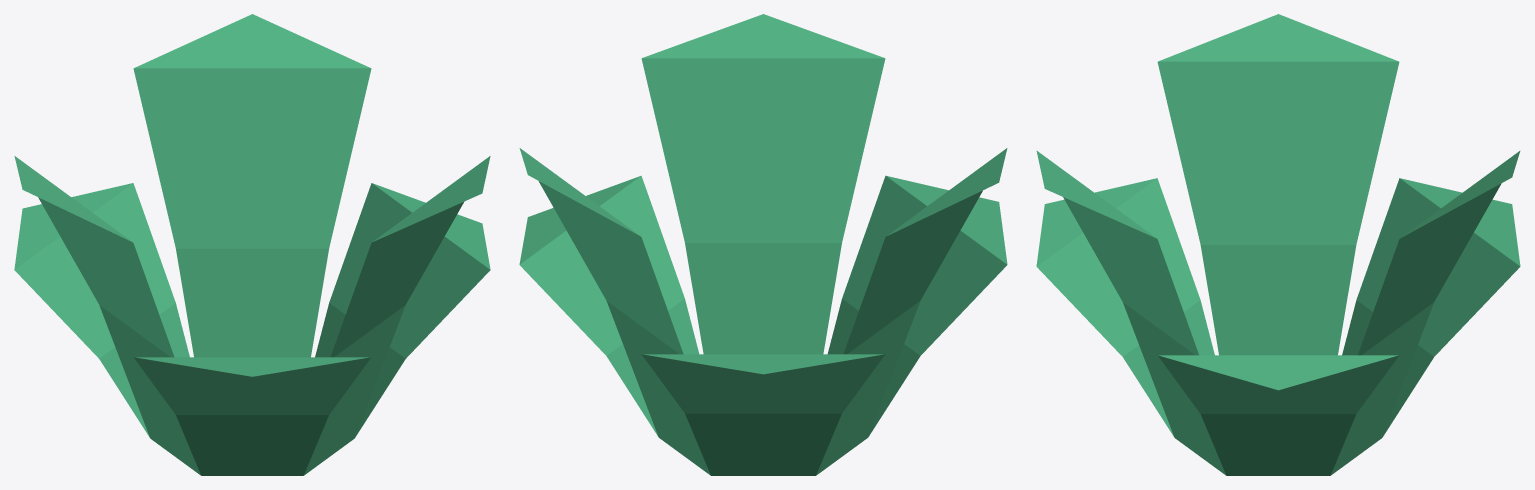
The model's file is bush_small.glb.
The picture shows the model from 3 angles, left to right: view 1: azimuth 30°, elevation 25°; view 2: azimuth 150°, elevation 25°; view 3: azimuth 270°, elevation 25°; orthographic projection. The views are drawn at different scales.
Parts seen in each view (by area): view 1: bush_small; view 2: bush_small; view 3: bush_small.
Part boxes in pixels (bbox=[...]): bush_small: bbox=[14, 14, 490, 475]; bush_small: bbox=[519, 14, 1007, 475]; bush_small: bbox=[1036, 14, 1520, 475].
Size of the model in its own units: 0.3743 by 0.2429 by 0.3357.
